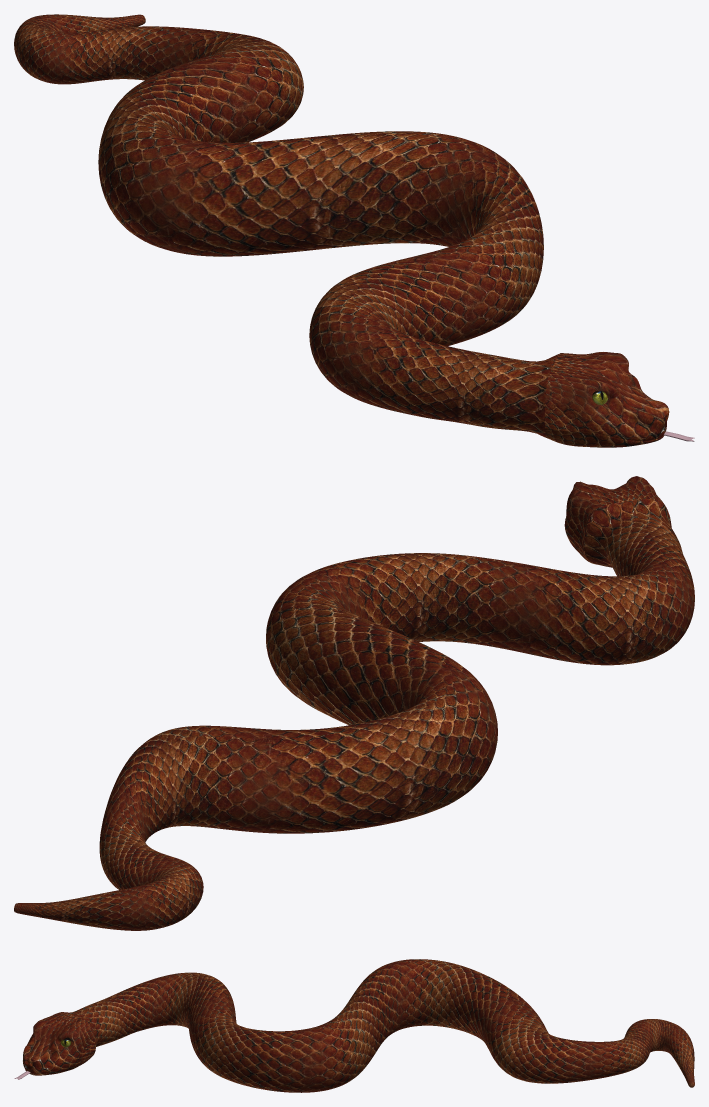
The model's file is sscene.gltf.
The picture shows the model from 3 angles, top to bottom: view 1: azimuth 30°, elevation 25°; view 2: azimuth 150°, elevation 25°; view 3: azimuth 270°, elevation 25°; orthographic projection. The views are drawn at different scales.
Parts seen in each view (by area): view 1: Geode; view 2: Geode; view 3: Geode.
Boxes of the visible parts, x1,y1,x2,y2 form: Geode: (14, 14, 694, 447); Geode: (14, 476, 694, 930); Geode: (14, 959, 694, 1092).
Bounding box in the file's own units: 7.1 × 2.53 × 23.26.
3 materials, 2 textured.
